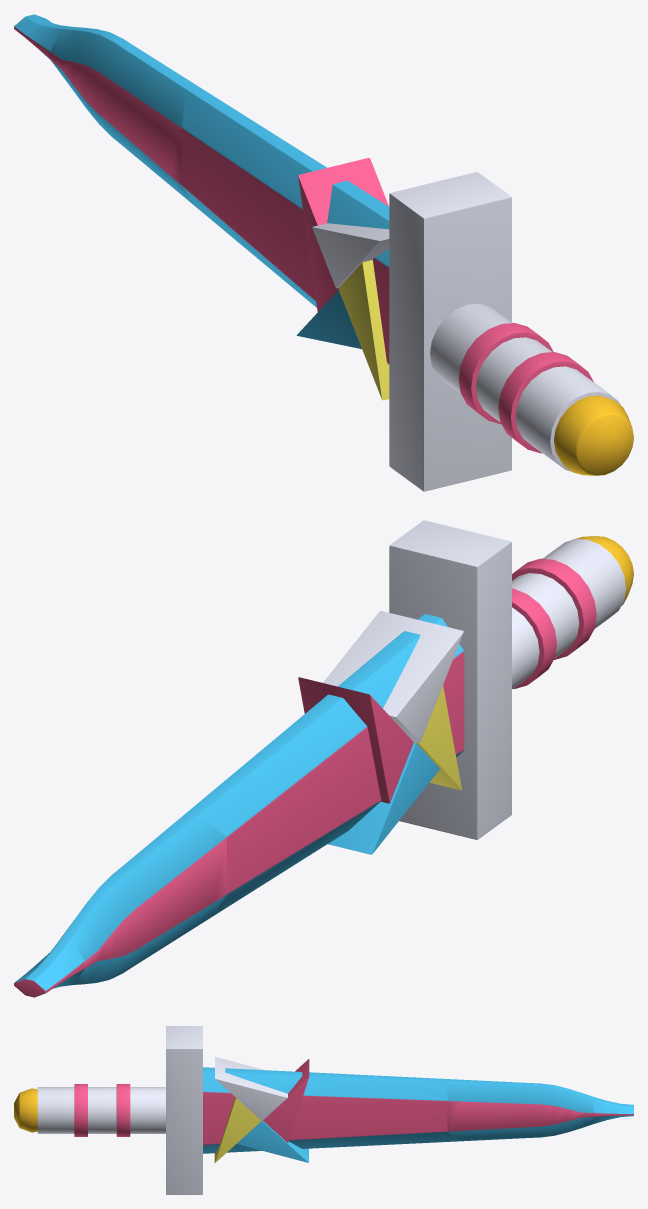
File: Sword_PinwheelClaymore.glb
3 views of the same model, one above another, from view 1: azimuth 30°, elevation 25°; view 2: azimuth 150°, elevation 25°; view 3: azimuth 270°, elevation 25° (orthographic). The views are drawn at different scales.
Parts seen in each view (by area): view 1: Sword_PinwheelClaymore; view 2: Sword_PinwheelClaymore; view 3: Sword_PinwheelClaymore.
Boxes of the visible parts, x1=… form: Sword_PinwheelClaymore: x1=14, y1=14, x2=633, y2=491; Sword_PinwheelClaymore: x1=14, y1=520, x2=633, y2=997; Sword_PinwheelClaymore: x1=14, y1=1026, x2=633, y2=1194.
Bounding box in the file's own units: 0.088 × 0.26 × 1.
1 material, 1 textured.
